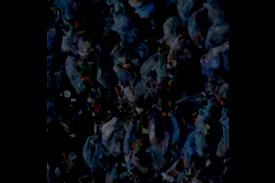Plastic: (169, 30, 202, 82), (125, 0, 166, 21), (128, 0, 157, 11), (57, 89, 75, 100)
